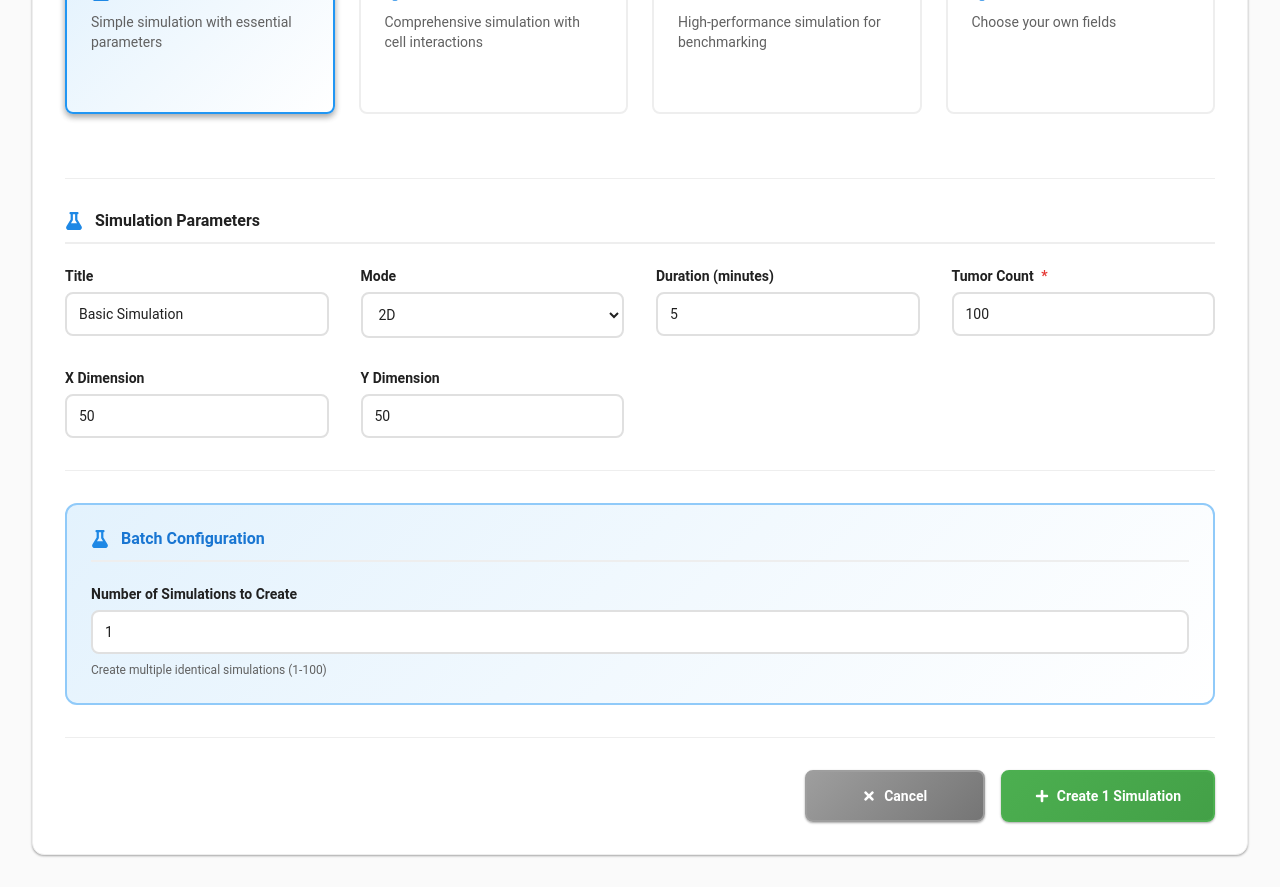
Test: CreateSimulation Component › shows loading state during submission
The image size is (1280, 887).
(page scrolled)
Click the button "Create 1 Simulation" at point(1108, 796), box x1=1001 y1=770 x2=1215 y2=822
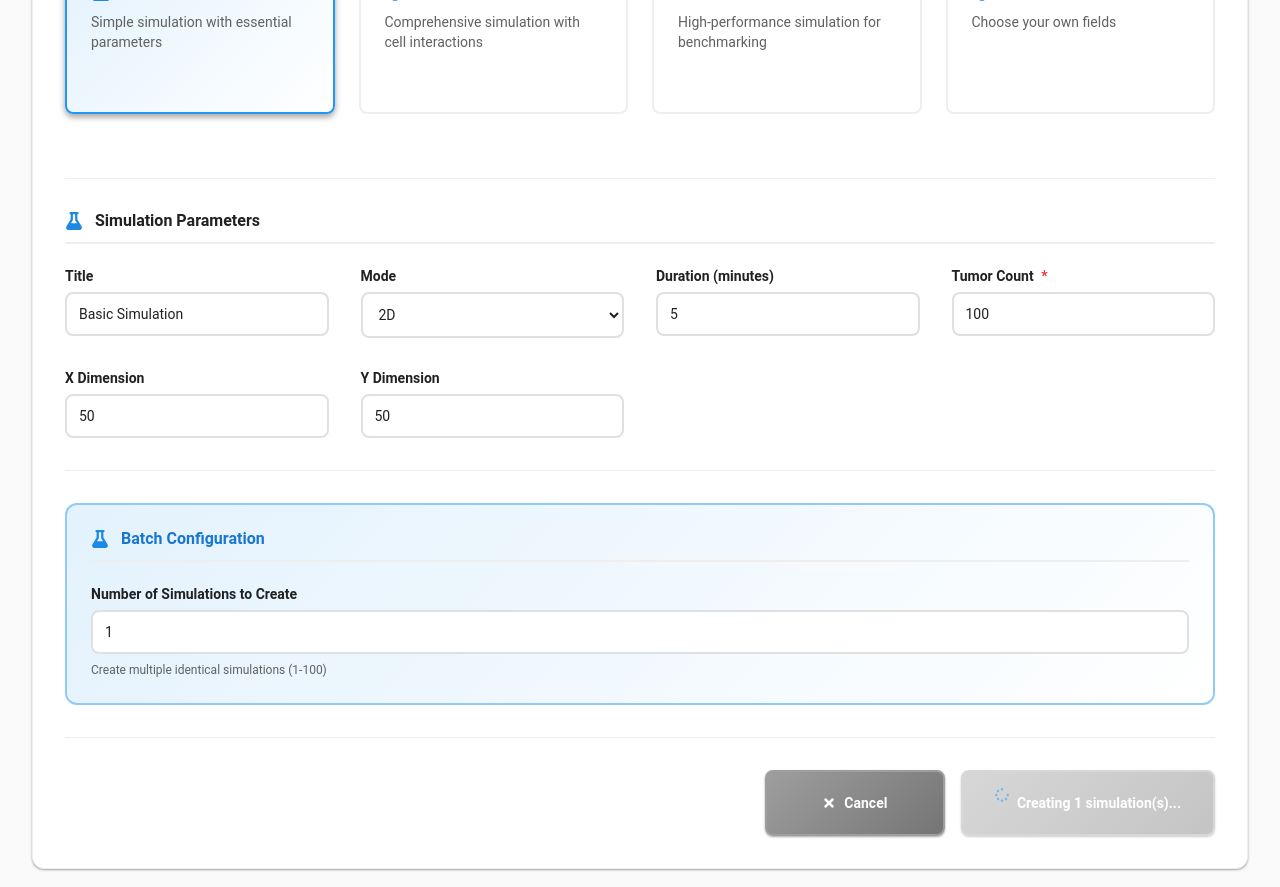
Now the button "Creating 1 simulation(s)..." is shown, box x1=1017 y1=795 x2=1181 y2=811
Now the button named "create 1 simulation" is disabled, box x1=961 y1=770 x2=1215 y2=836
